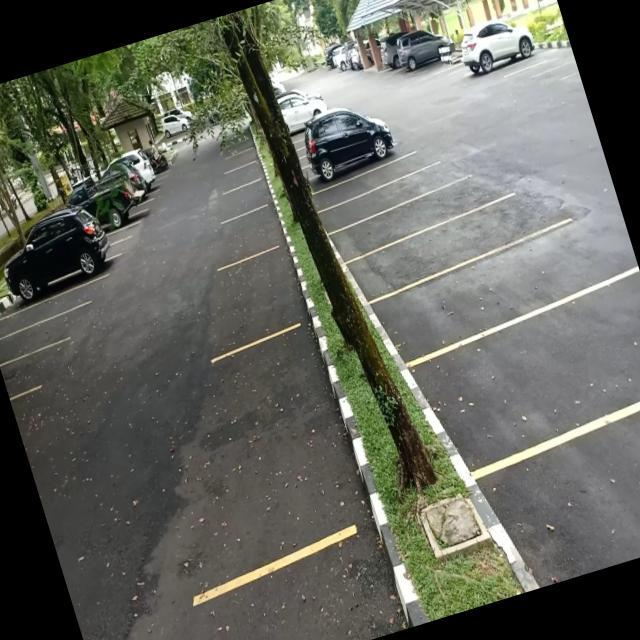empty: (168, 318, 376, 573), (425, 278, 640, 474), (382, 233, 586, 360), (351, 204, 525, 300), (333, 181, 490, 260), (200, 243, 311, 351), (319, 169, 448, 230), (313, 153, 434, 208), (0, 281, 102, 337), (214, 201, 286, 264), (0, 312, 76, 365), (217, 177, 272, 219)
occupied: (0, 223, 122, 310), (298, 113, 403, 191), (452, 30, 540, 84)
